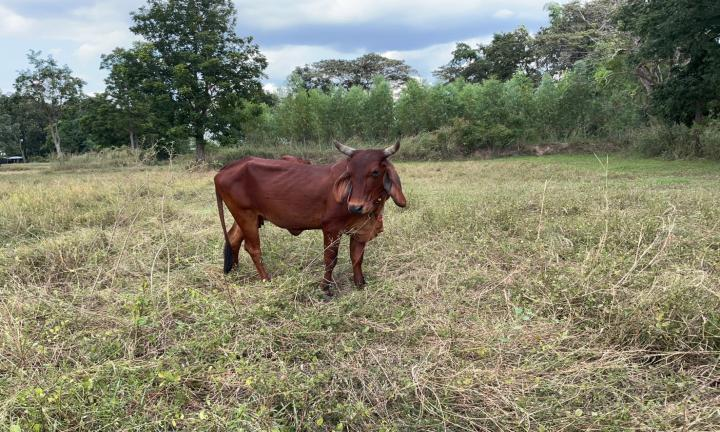Brahman: (214, 140, 406, 285)
